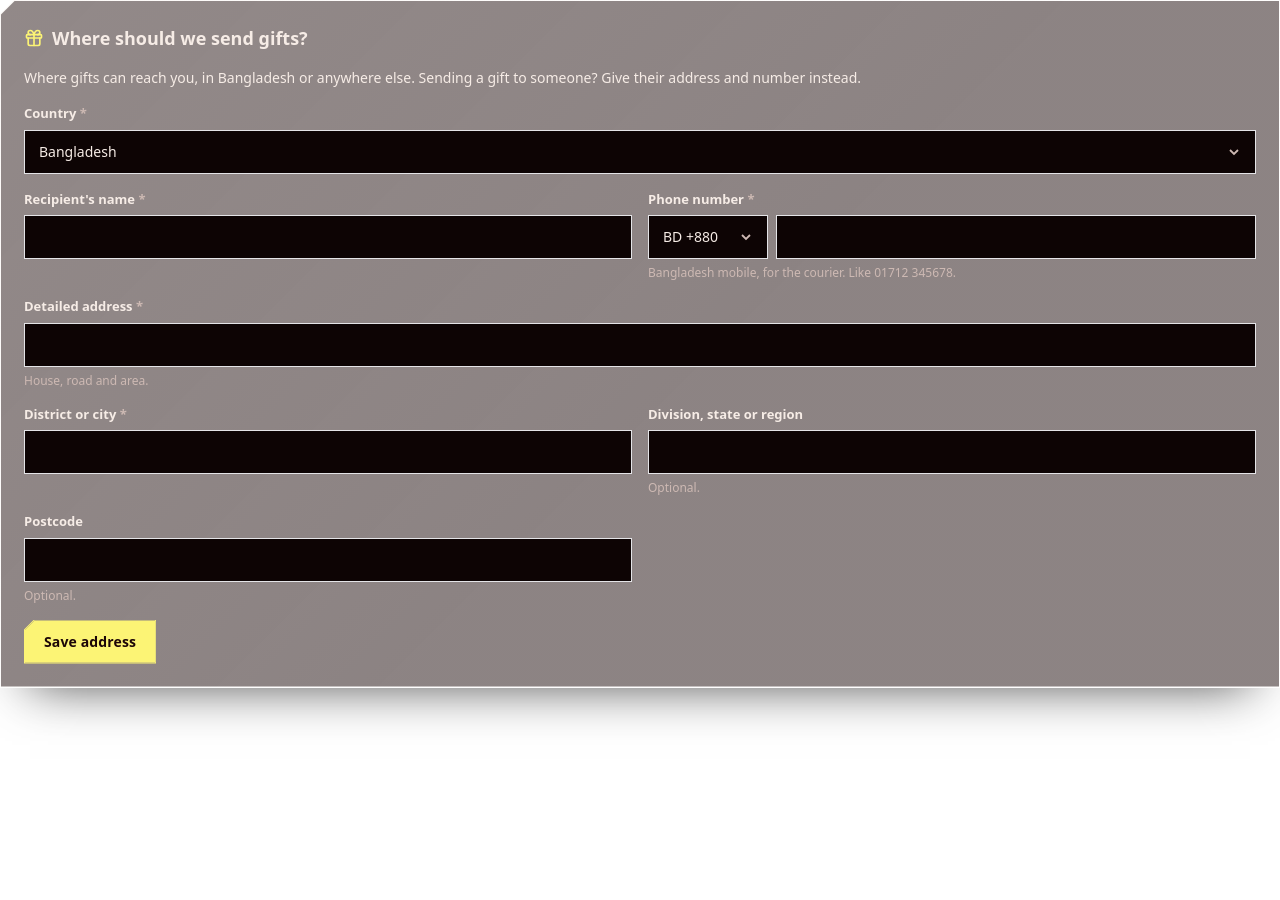
Scenario: DeliveryAddressStep › asks for an address when there is none, and saving it confirms the order
The width and height of the screenshot is (1280, 900).
Type "Nadia Rahman" into the field labelled "Recipient's name *". click: (328, 237)
box: [24,215,632,259]
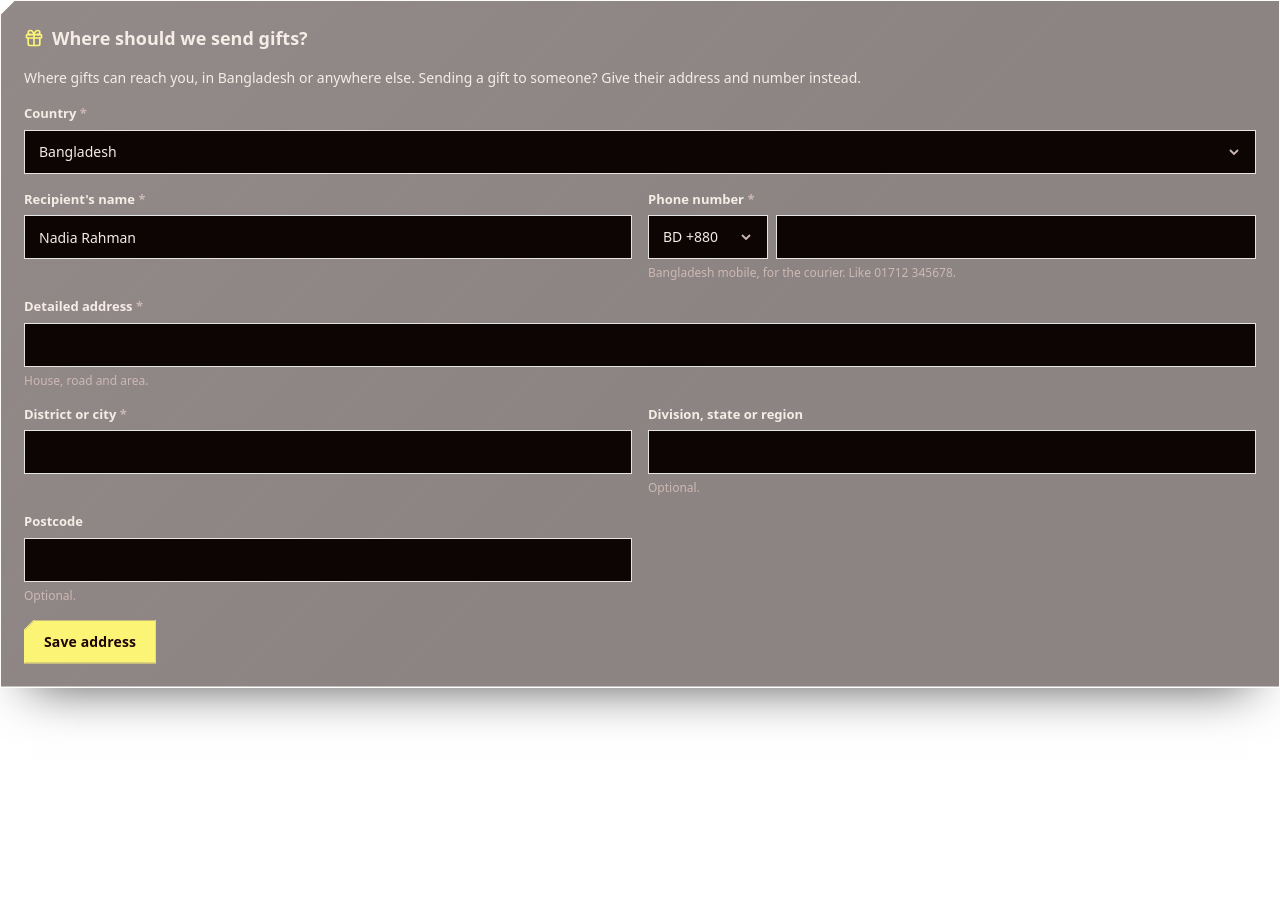
Type "01712 345678" into the field labelled "Phone number *". click: (1016, 237)
box: [776,215,1256,259]
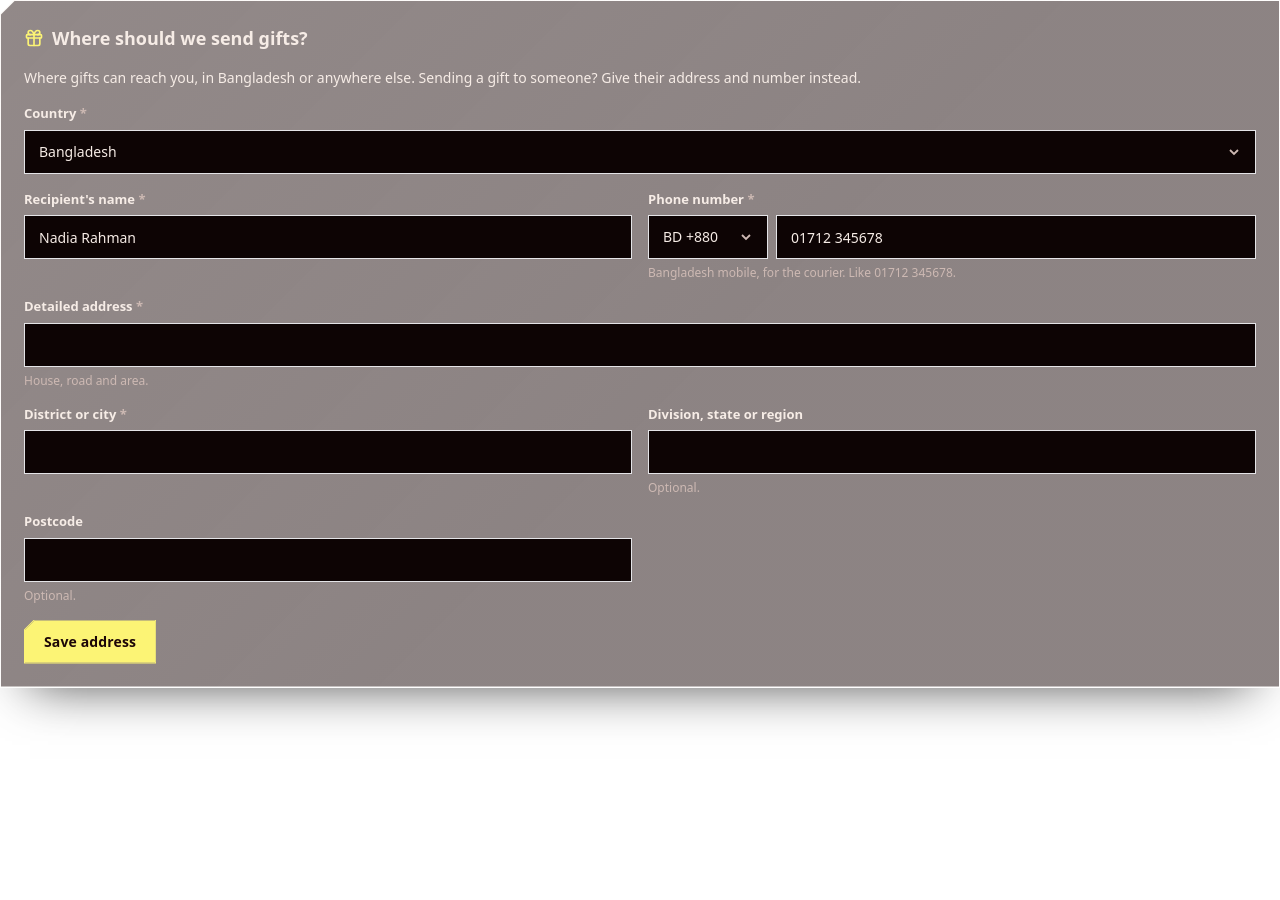
Type "House 12, Road 27, Dhanmondi" into the field labelled "Detailed address *". click: (640, 344)
box: [24,322,1256,366]
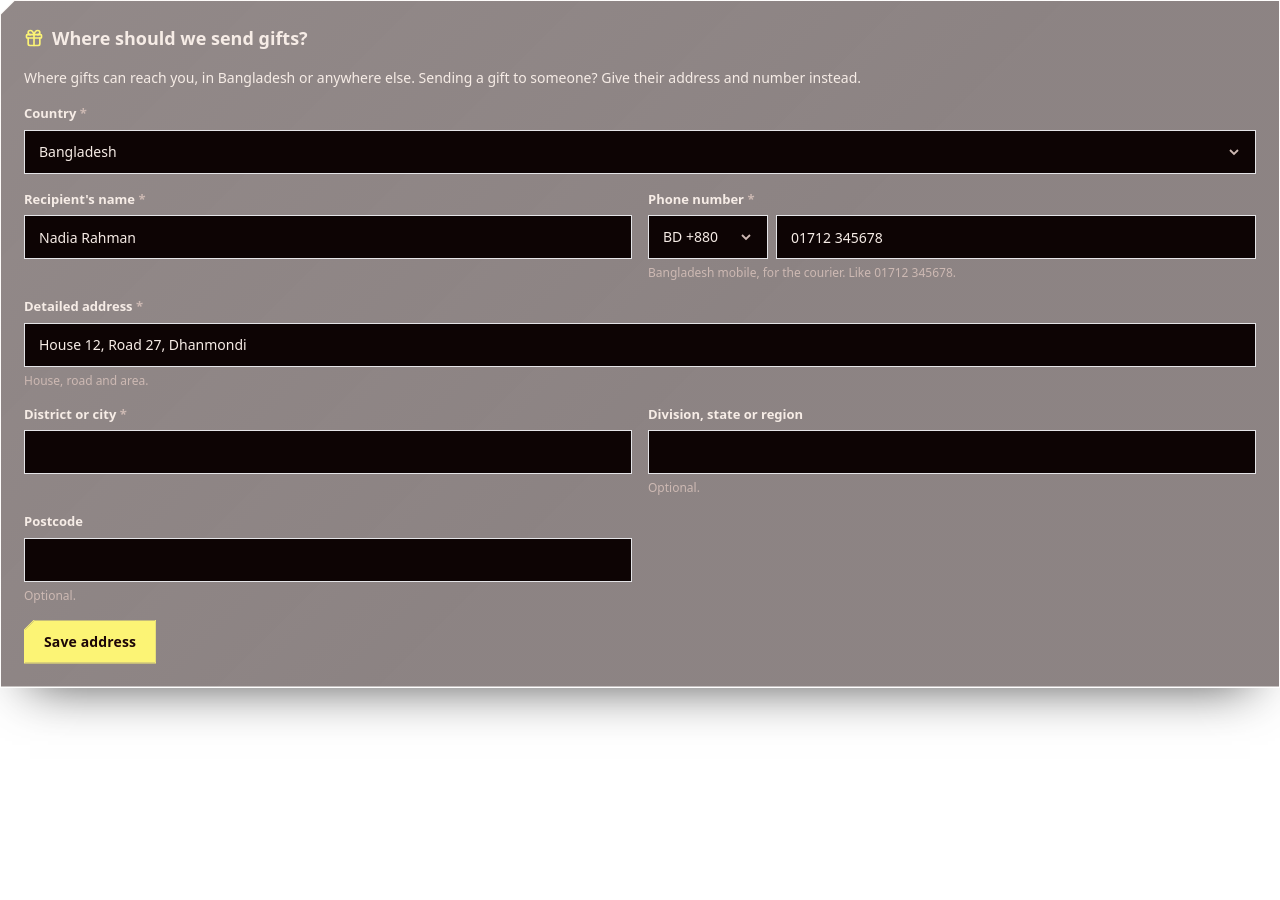
Type "Dhaka" into the field labelled "District or city *". click: (328, 452)
box: [24,430,632,474]
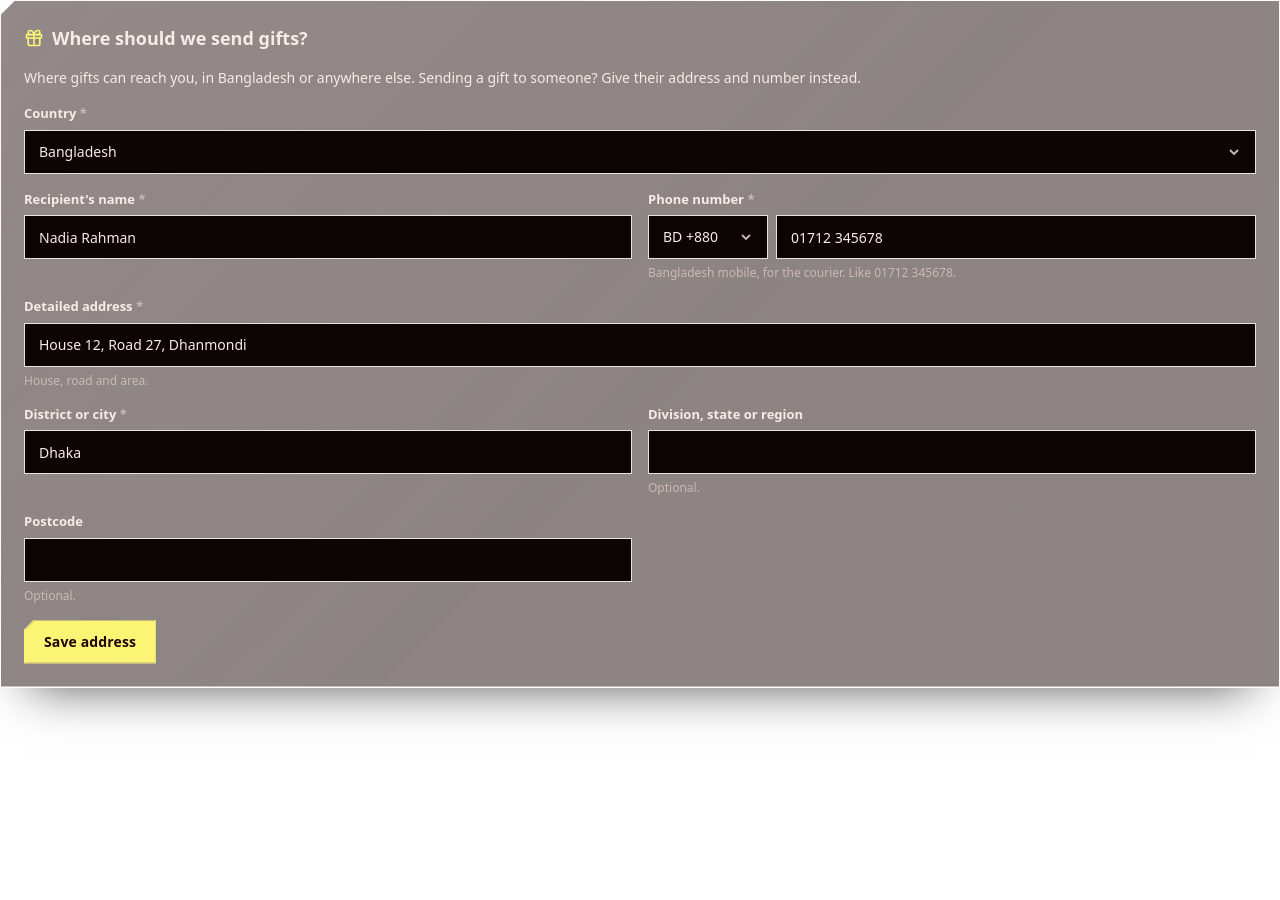
Type "Dhaka" into the field labelled "Division, state or region". click: (952, 452)
box: [648,430,1256,474]
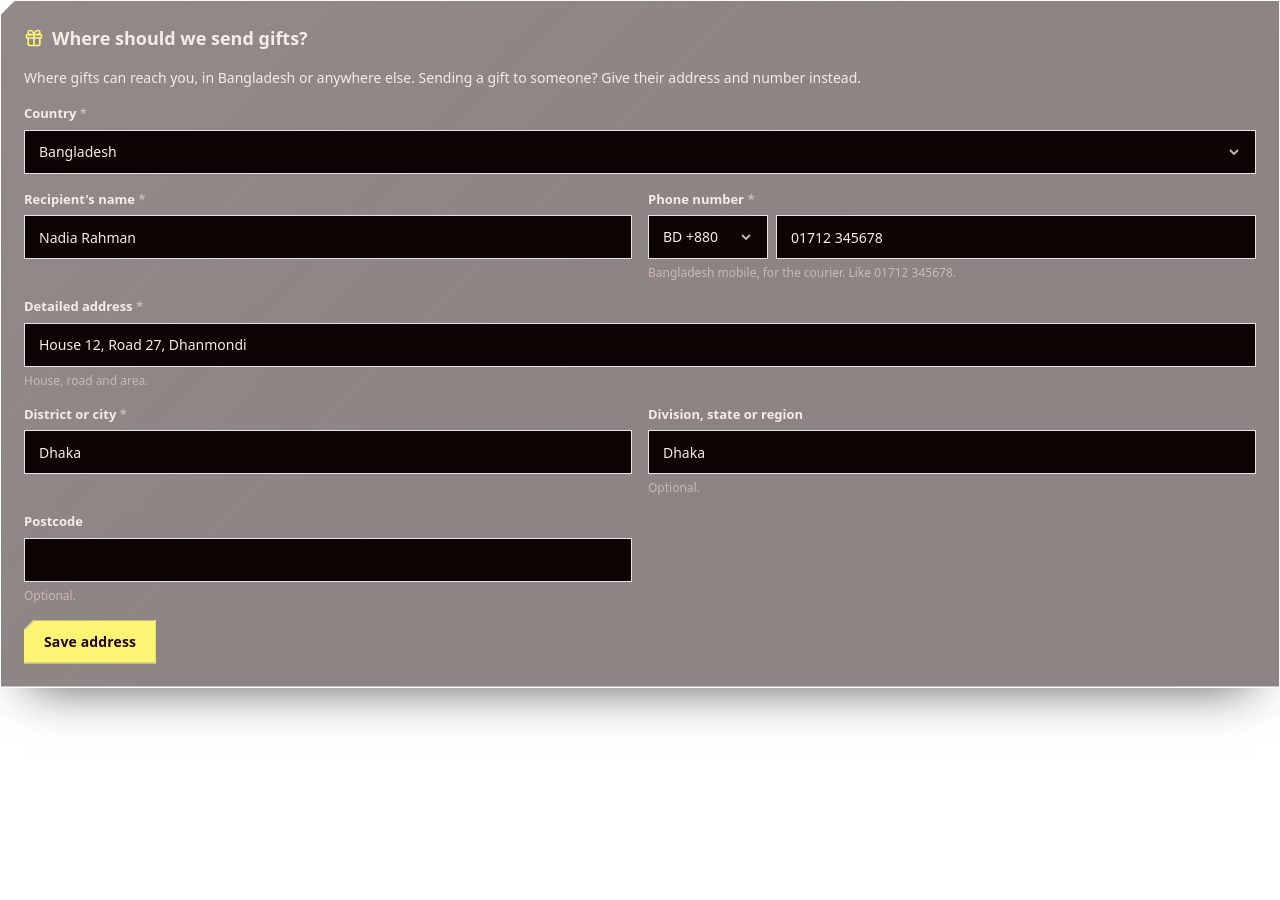
Click the button "Save address". click: (90, 642)
box: [24,620,156,664]
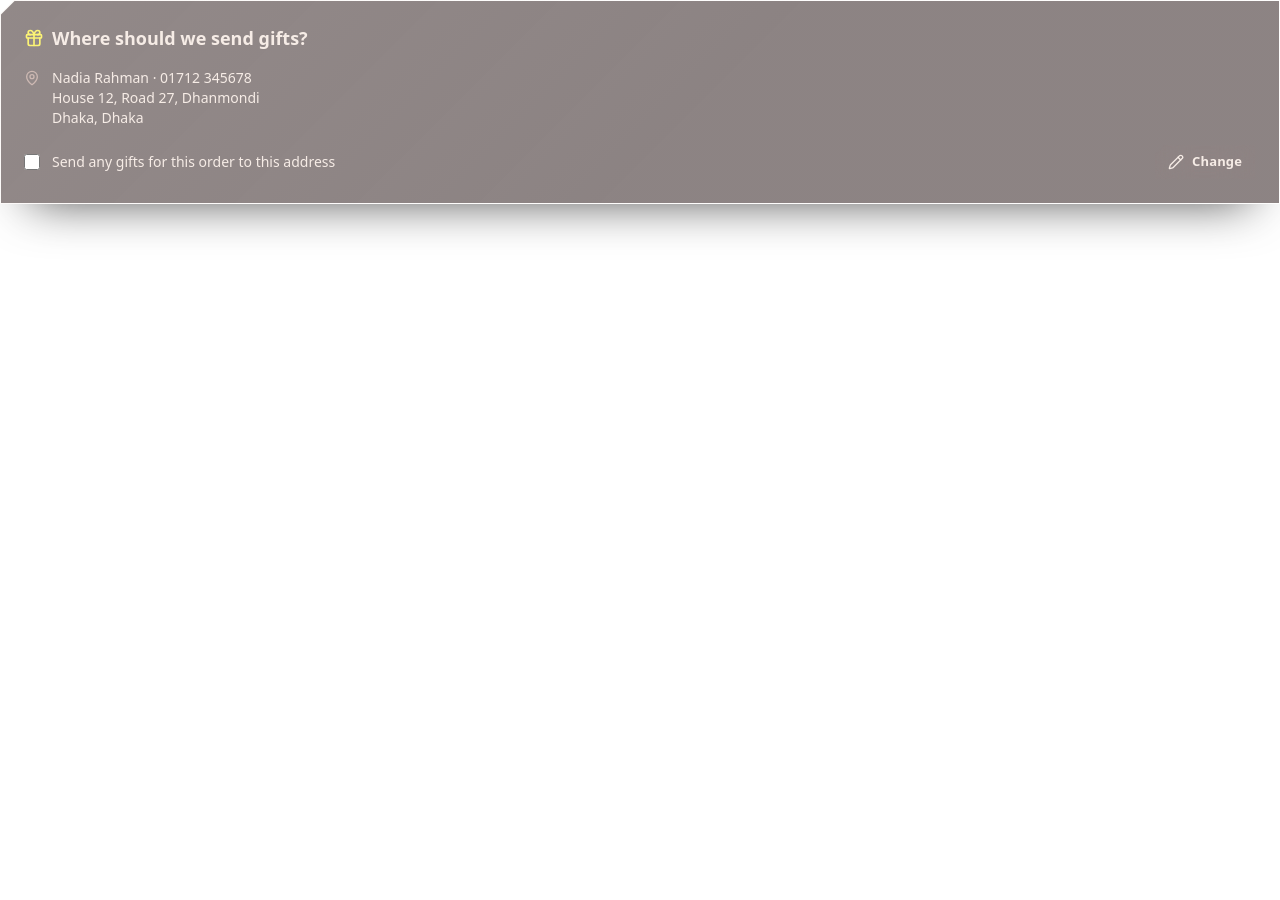
Expected: the text "Nadia Rahman · 01712 345678" is shown, [52,68,260,88]
